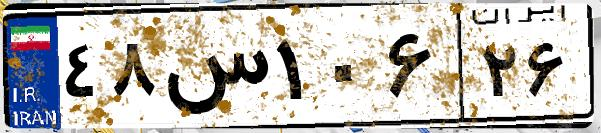0: (330, 28, 385, 110)
1: (270, 28, 330, 110)
2: (475, 38, 525, 113)
4: (57, 26, 110, 100)
6: (385, 28, 445, 110), (525, 38, 570, 115)
8: (110, 28, 158, 98)
س: (158, 20, 270, 120)
